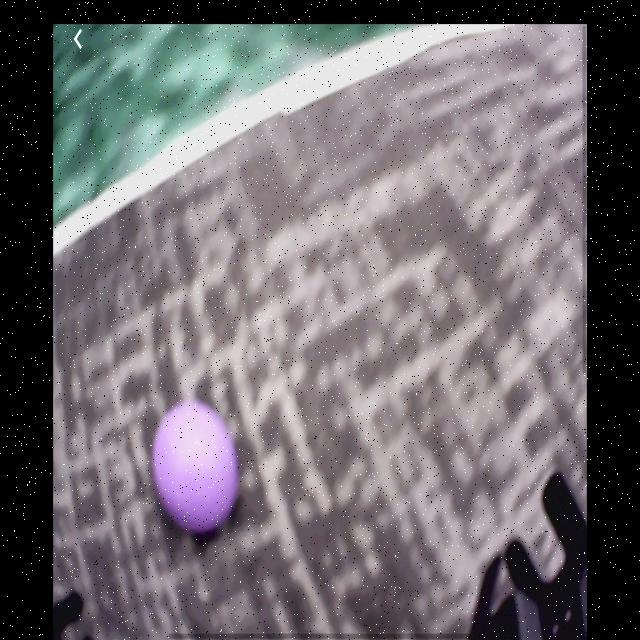ball: (152, 402, 240, 539)
